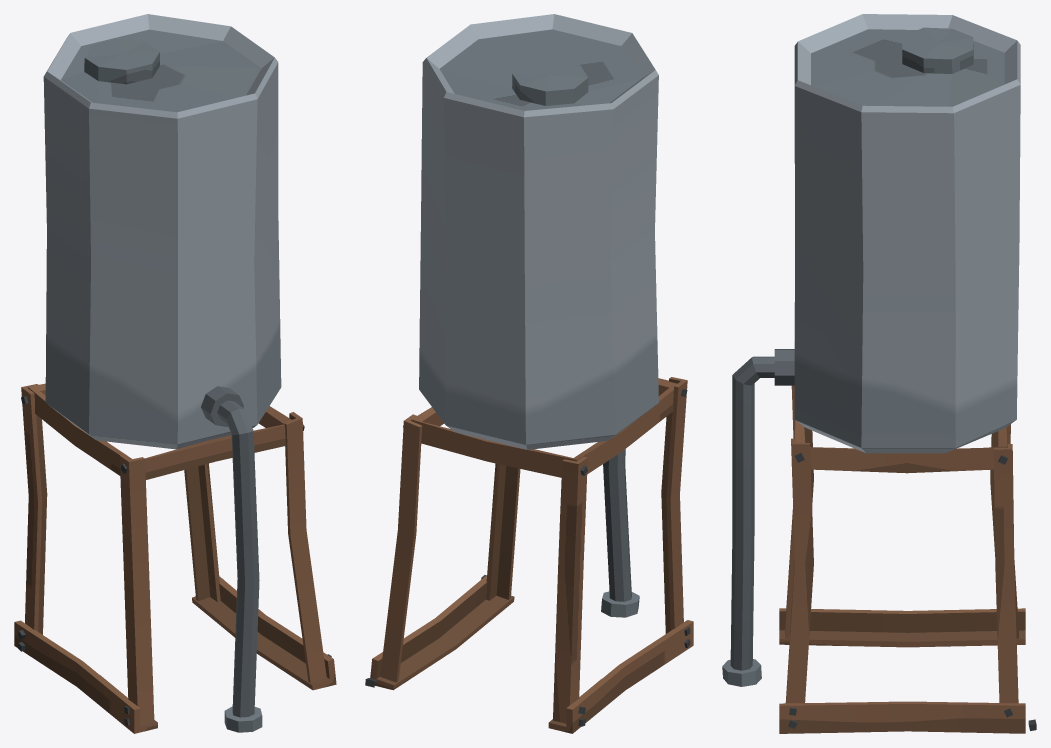
The model's file is SM_Prop_WaterTank_03.glb.
3 views of the same model, side by side, from view 1: azimuth 30°, elevation 25°; view 2: azimuth 150°, elevation 25°; view 3: azimuth 270°, elevation 25° (orthographic). The views are drawn at different scales.
Parts seen in each view (by area): view 1: SM_Prop_WaterTank_03; view 2: SM_Prop_WaterTank_03; view 3: SM_Prop_WaterTank_03.
Boxes of the visible parts, box(x1,y1,x2,y2) form: SM_Prop_WaterTank_03: box(14, 14, 336, 733); SM_Prop_WaterTank_03: box(365, 14, 693, 733); SM_Prop_WaterTank_03: box(722, 14, 1036, 733).
Bounding box in the file's own units: 1.61 × 4.44 × 2.04.
Materials: 1 (1 with a texture image).
